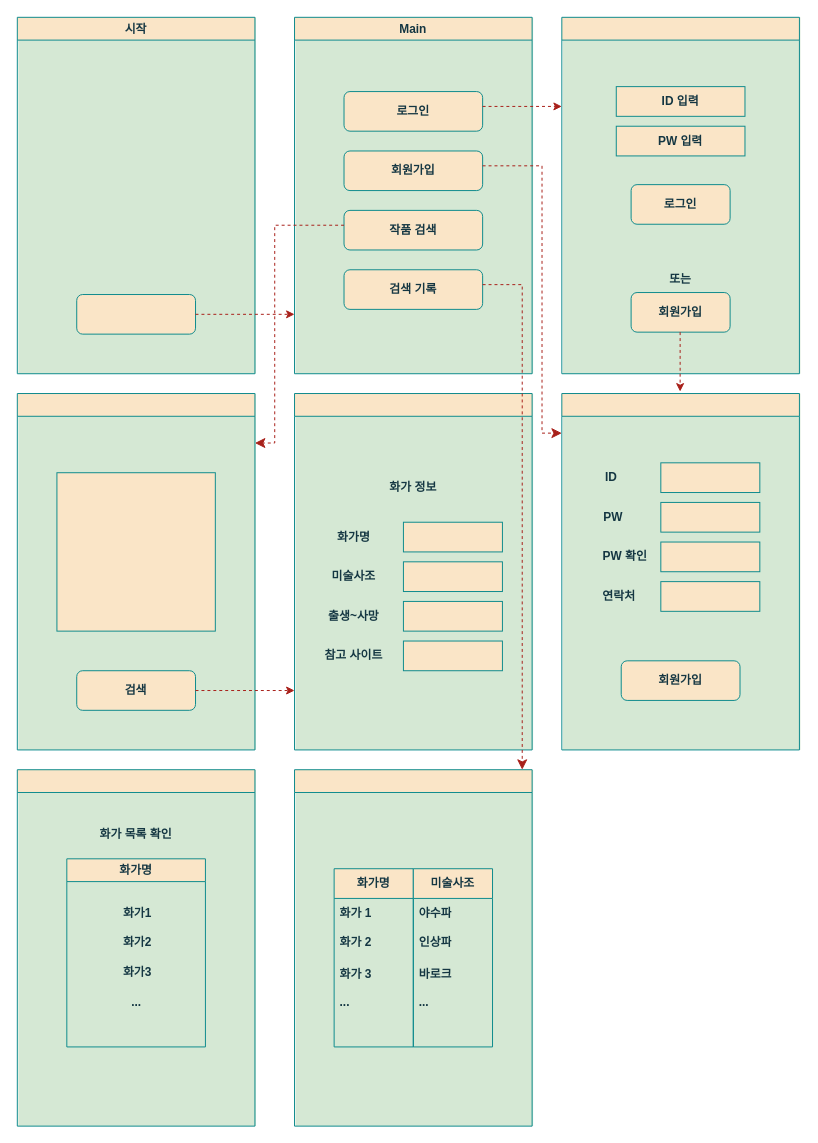
The diagram is 818 pixels wide and 1143 high, and some of its shapes have lost their labels. The shapes that lost their labels are listed below. From the top down, each one's box as (x1, y1, x2, y2) in pixels, then its label:
(561, 16, 799, 374): 로그인 화면
(76, 294, 196, 334): 입장
(16, 393, 255, 750): 작품 검색 화면
(294, 393, 532, 750): 화가 정보 확인 화면
(561, 393, 799, 750): 회원가입 화면
(16, 769, 255, 1126): 화가 목록 화면
(294, 769, 532, 1126): 검색 기록 화면
